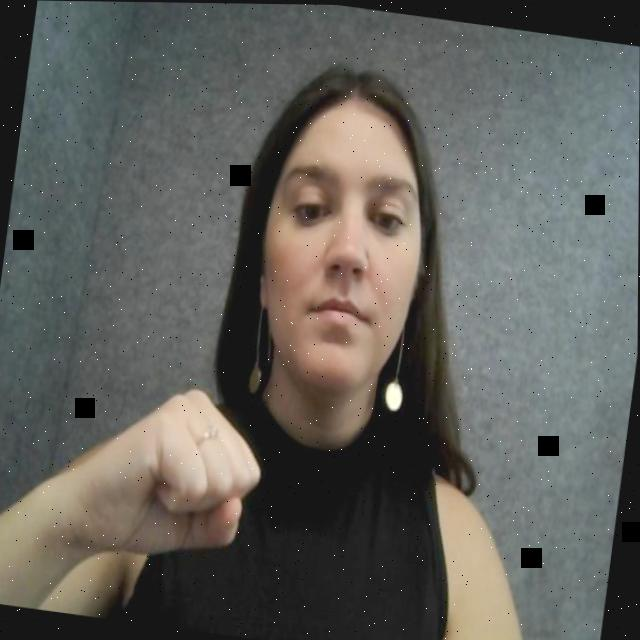Rock: (55, 375, 285, 591)
